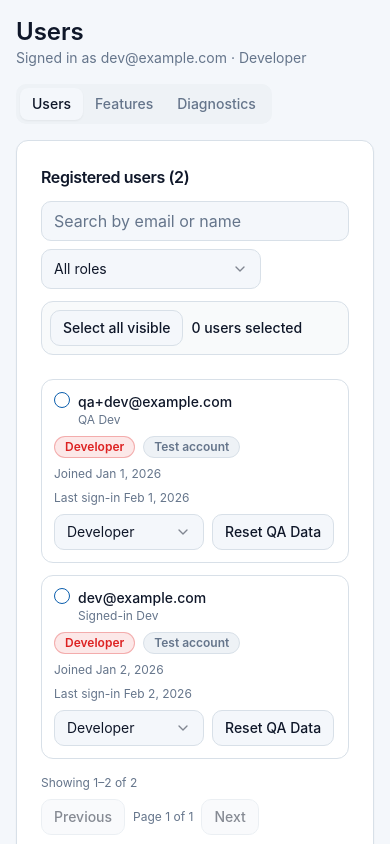
Scenario: Reset QA Data visibility › opens the RESET dialog for the developer's own row
The width and height of the screenshot is (390, 844).
Click the button with aria-label "Reset QA data for dev@example.com". click: x=273, y=728
box: [212, 710, 334, 746]
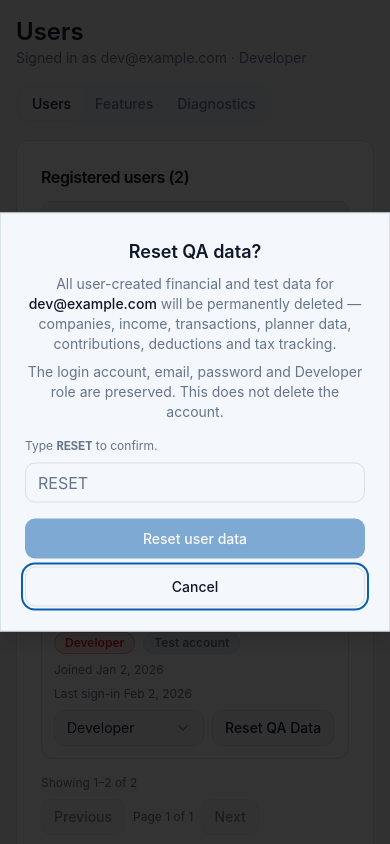
Check: the dialog with test id "reset-qa-dialog" shows "dev@example.com", box [29, 294, 157, 312]
Check: the button with test id "reset-qa-confirm-button" is disabled, box [25, 518, 365, 558]
